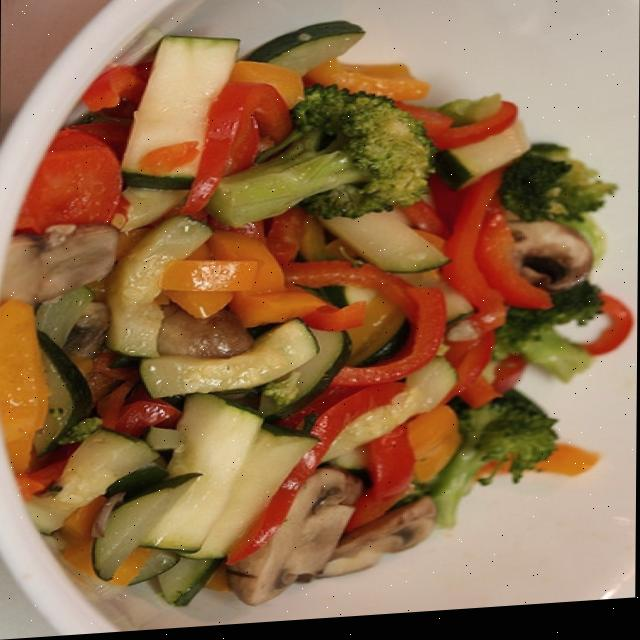蔬菜料理: (10, 12, 631, 637)
